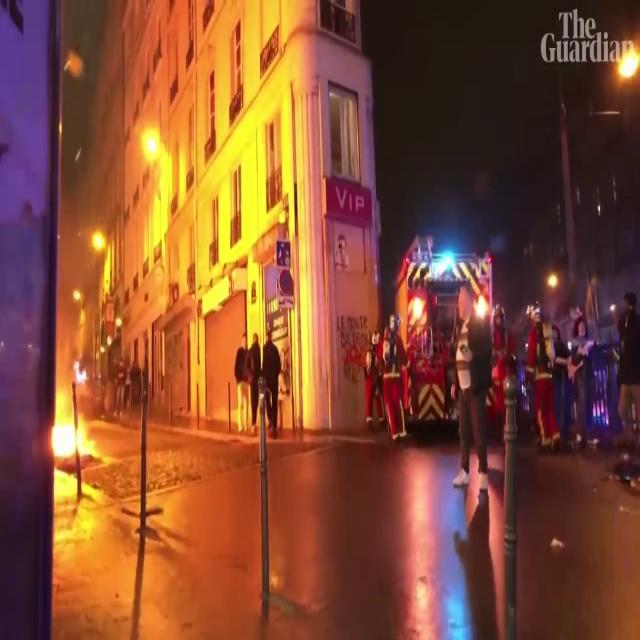Fire: (48, 363, 88, 472)
